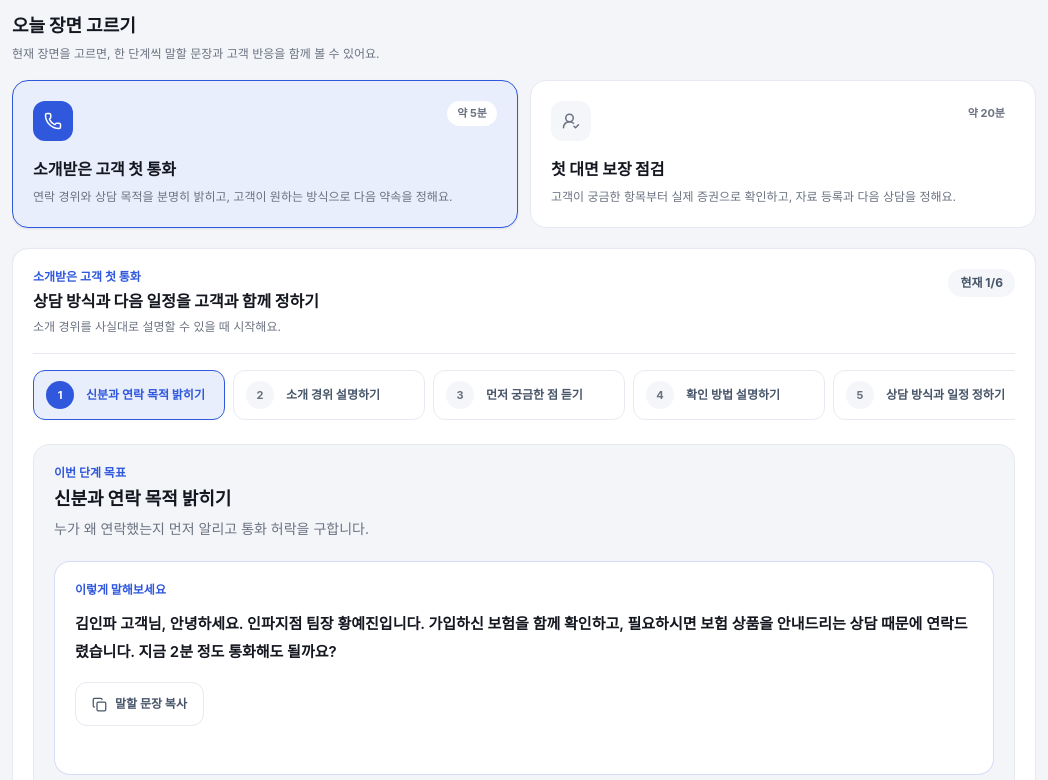
Test: GuidedTalkPlaybooks › copies only the rendered spoken text
Click the button "말할 문장 복사".
click(139, 704)  # box x1=75 y1=682 x2=204 y2=726
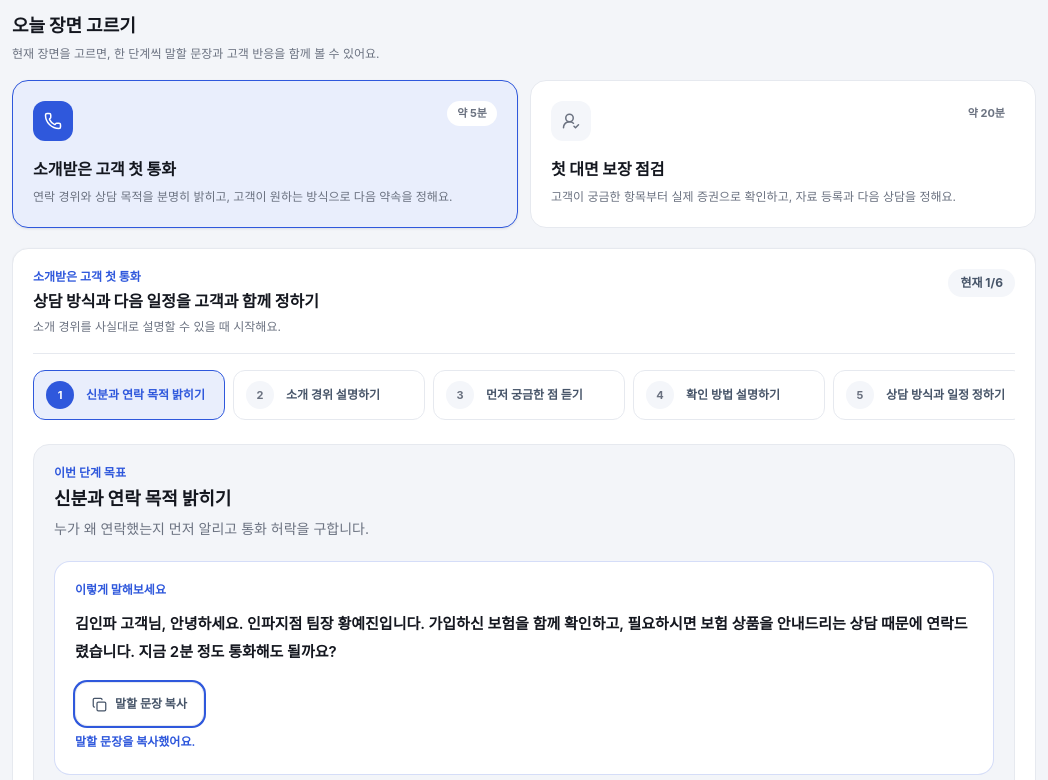
Result: the message reads "말할 문장을 복사했어요." at x1=75 y1=734 x2=195 y2=749
